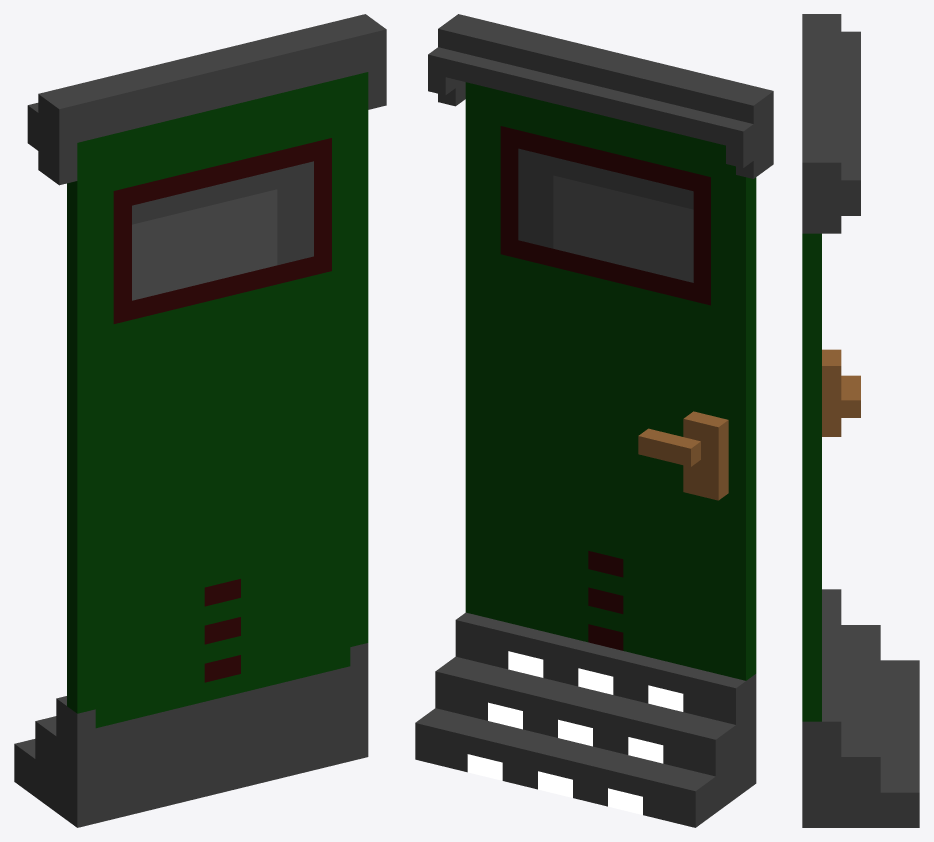
File: backdoorTwo.glb
3 views of the same model, side by side, from view 1: azimuth 30°, elevation 25°; view 2: azimuth 150°, elevation 25°; view 3: azimuth 270°, elevation 25° (orthographic). The views are drawn at different scales.
Parts seen in each view (by area): view 1: ObjObject; view 2: ObjObject; view 3: ObjObject.
Part boxes in pixels (<box>): ObjObject: <box>14,14,386,827</box>; ObjObject: <box>415,14,773,827</box>; ObjObject: <box>802,14,919,827</box>.
Size of the model in its own units: 1.8 by 3.8 by 0.6.
2 materials, 1 textured.
